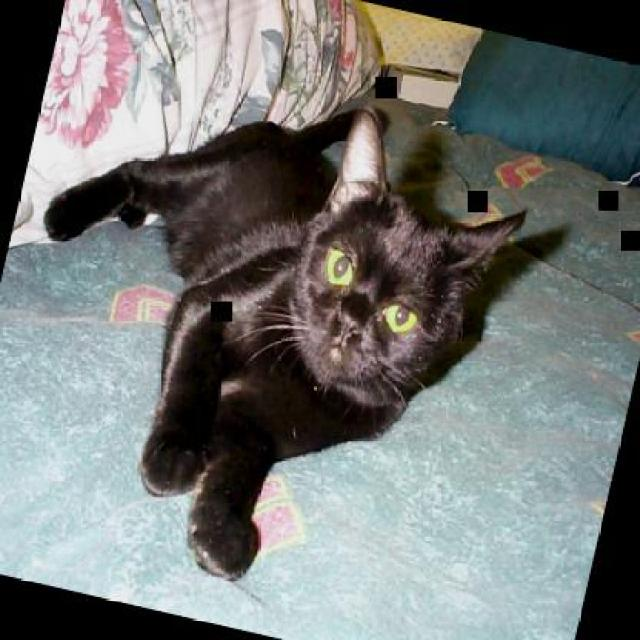cat: (0, 42, 543, 628)
